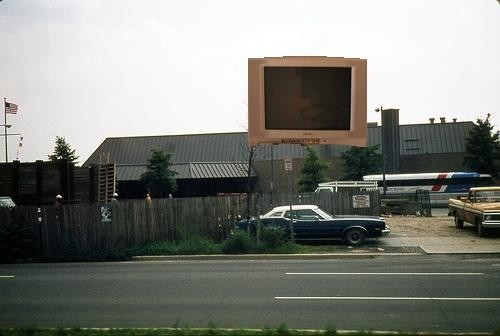tampered: (249, 57, 367, 147)
